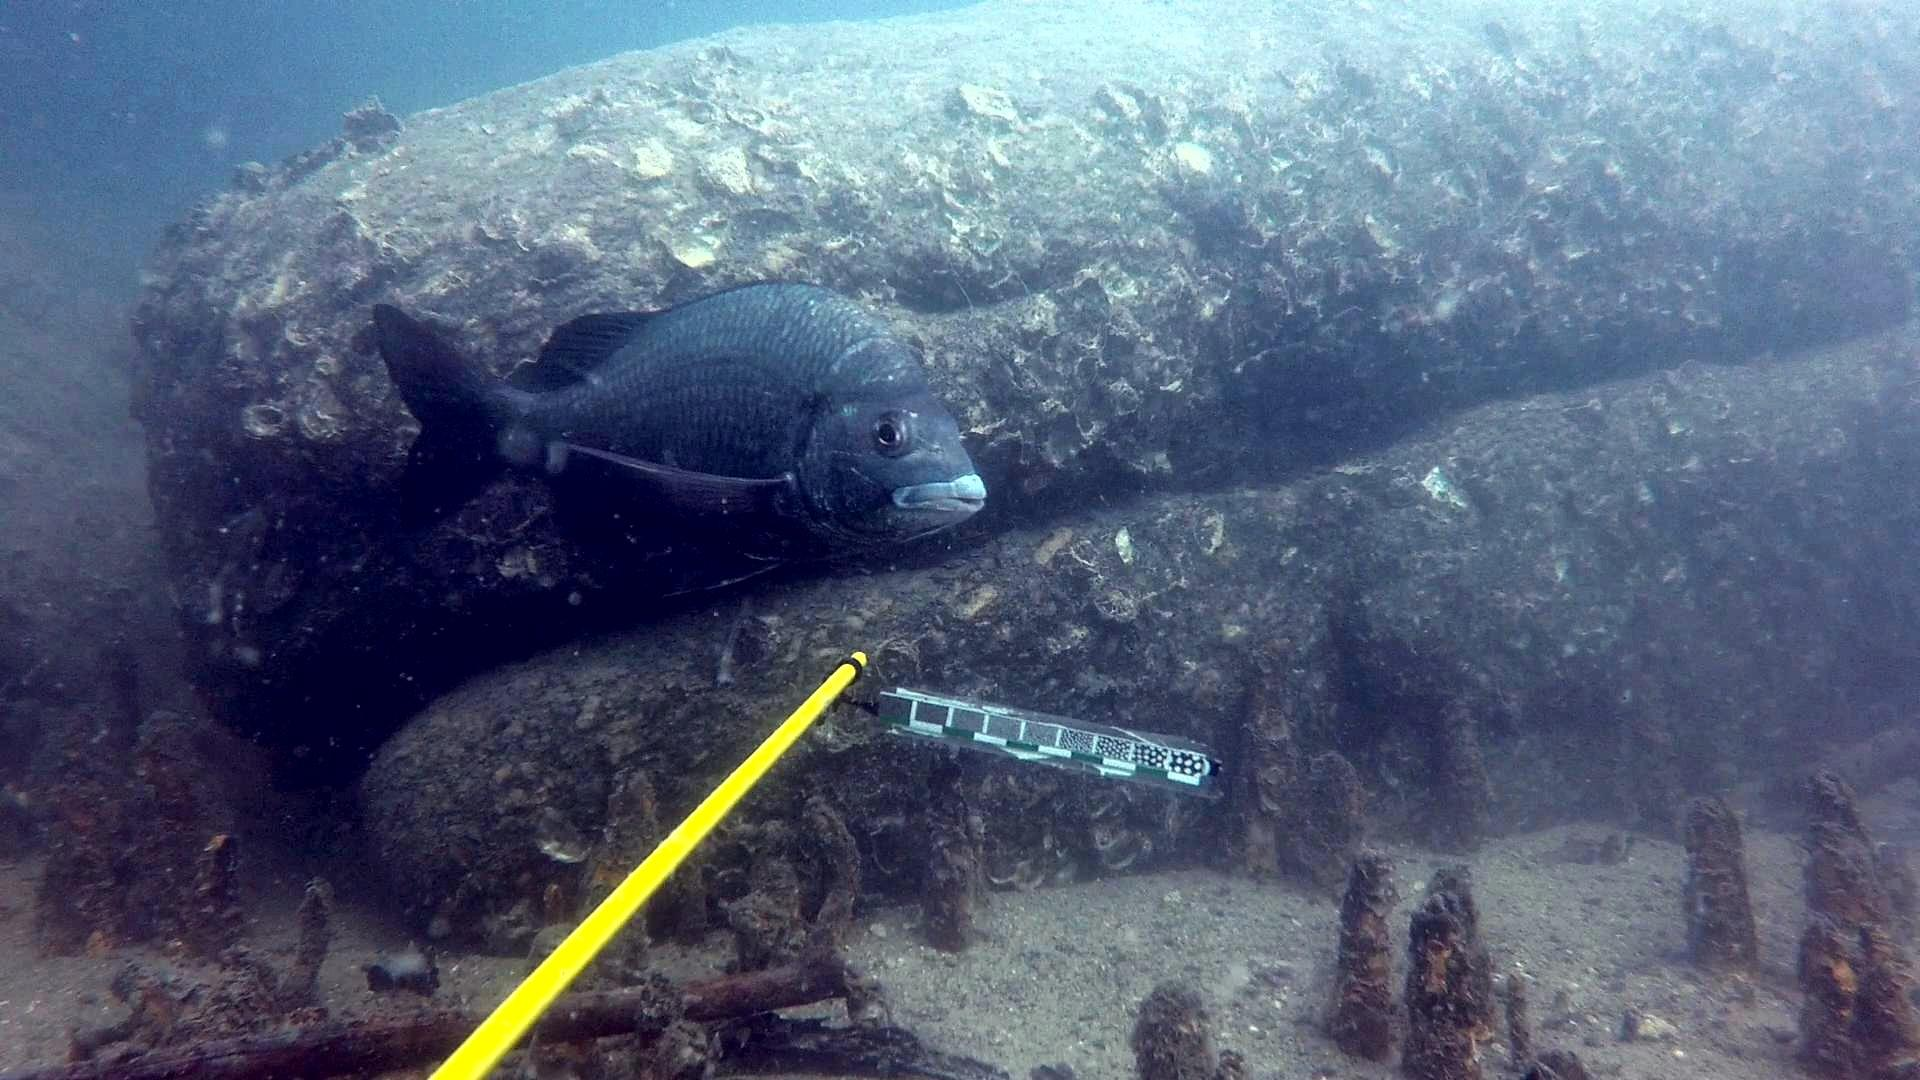acanthopagrus palmaris: (365, 268, 994, 588)
